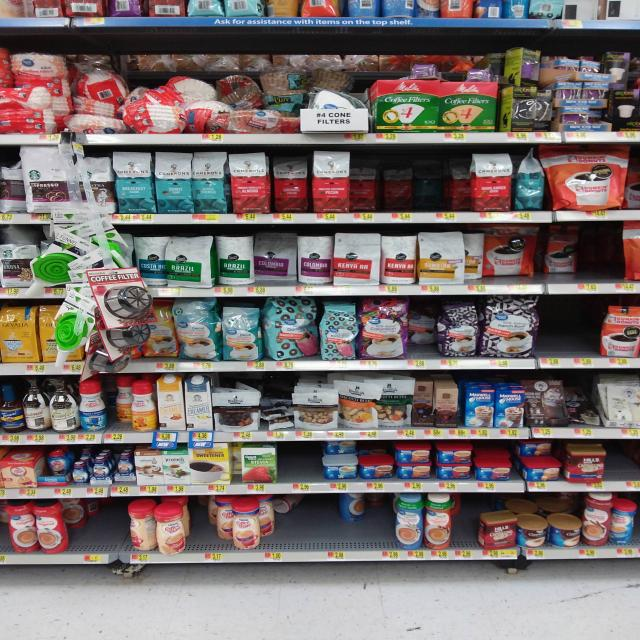empty: (536, 292, 605, 366), (573, 223, 631, 288), (287, 496, 337, 549), (83, 495, 125, 553), (282, 445, 327, 484)
